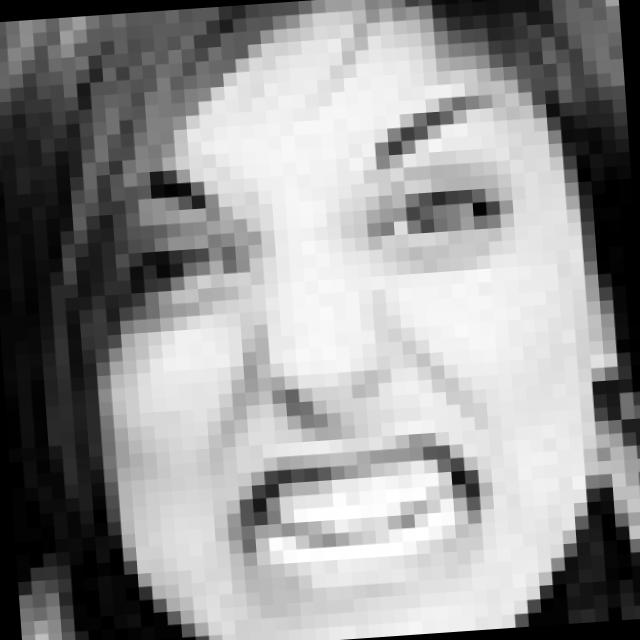angry: (109, 87, 551, 614)
